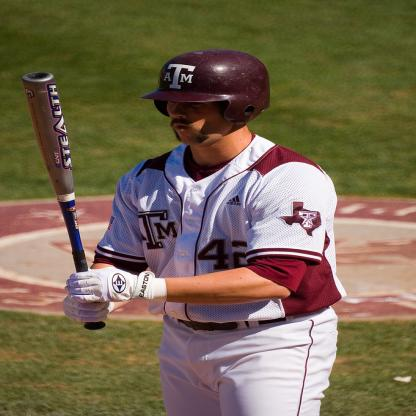Helmet: (141, 46, 274, 138)
